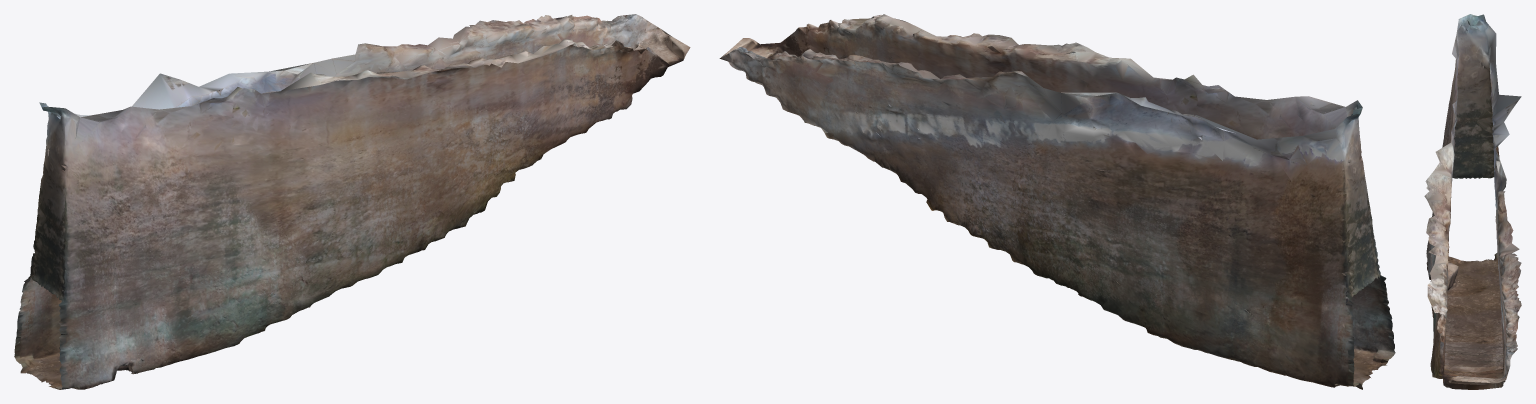
Rendered from Tafos159_Entrance.fbx.
The picture shows the model from 3 angles, left to right: view 1: azimuth 30°, elevation 25°; view 2: azimuth 150°, elevation 25°; view 3: azimuth 270°, elevation 25°; orthographic projection. The views are drawn at different scales.
Parts seen in each view (by area): view 1: Tafos159-Entrance; view 2: Tafos159-Entrance; view 3: Tafos159-Entrance.
Boxes of the visible parts, <box> form: Tafos159-Entrance: <box>14,14,690,389</box>; Tafos159-Entrance: <box>719,14,1395,389</box>; Tafos159-Entrance: <box>1424,14,1521,389</box>.
Bounding box in the file's own units: 1087 × 154 × 438.
